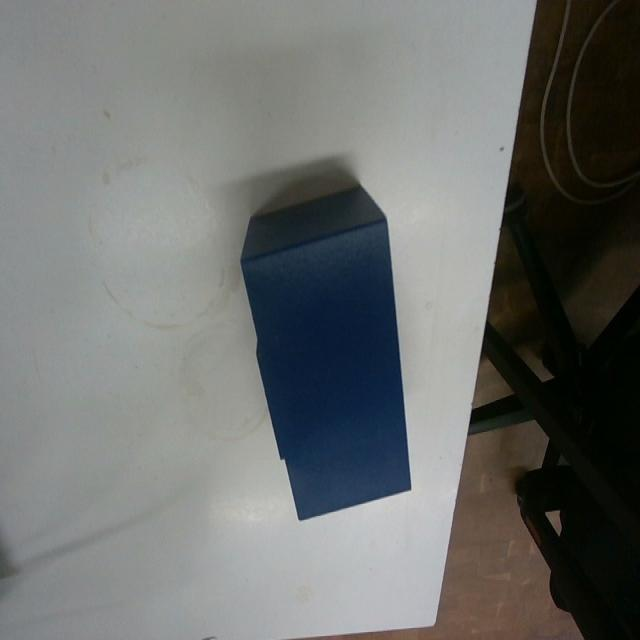Blue Cuboid: (238, 179, 414, 521)
